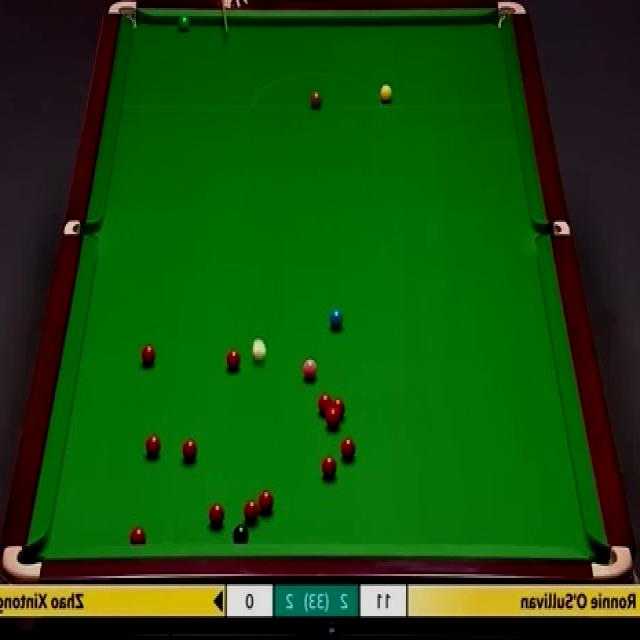black-ball: (232, 523, 248, 545)
blue-ball: (328, 308, 344, 329)
brown-ball: (310, 88, 322, 108)
green-ball: (177, 14, 191, 32)
pink-ball: (301, 359, 318, 384)
red-ball: (180, 438, 198, 464), (243, 497, 259, 526), (225, 346, 242, 373), (208, 504, 225, 530), (339, 439, 359, 461), (258, 490, 274, 516), (144, 434, 160, 458), (324, 462, 342, 483), (142, 344, 156, 369), (332, 398, 346, 422), (318, 393, 331, 418), (129, 526, 147, 543), (324, 411, 340, 430)
white-ball: (252, 337, 266, 363)
yellow-ball: (381, 86, 393, 102)
